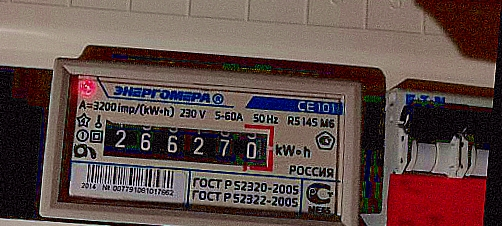0: (244, 139, 257, 161)
2: (112, 127, 128, 149), (191, 134, 204, 156)
6: (138, 131, 153, 152), (164, 133, 179, 153)
7: (216, 136, 230, 158)
screen: (92, 107, 283, 180)
